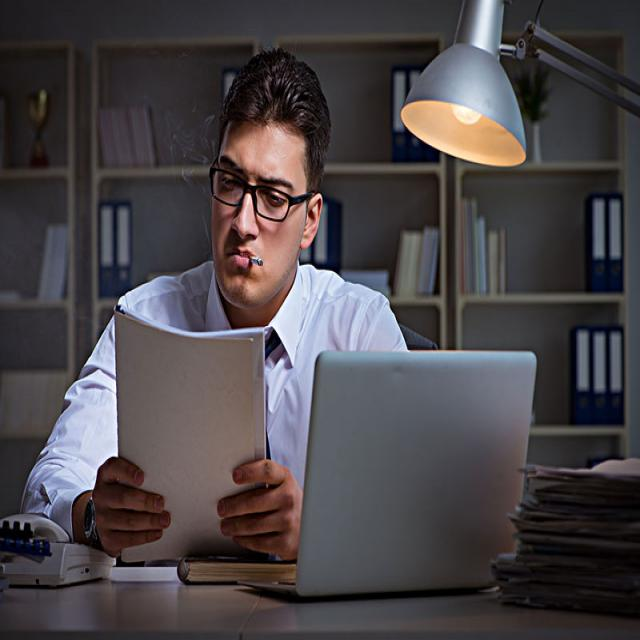smoking: (246, 254, 262, 268)
